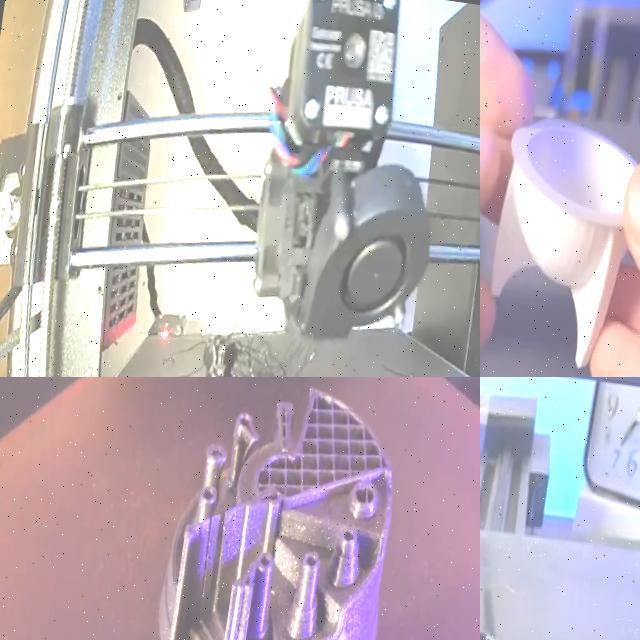spaghetti: (212, 317, 314, 377)
